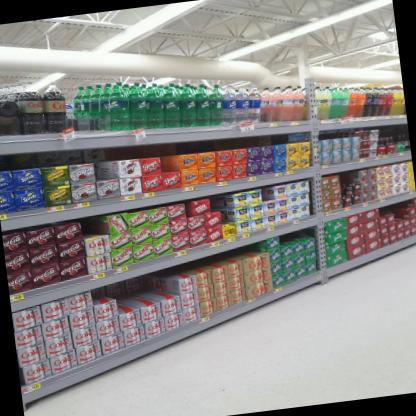empty_space: (64, 102, 110, 133)
